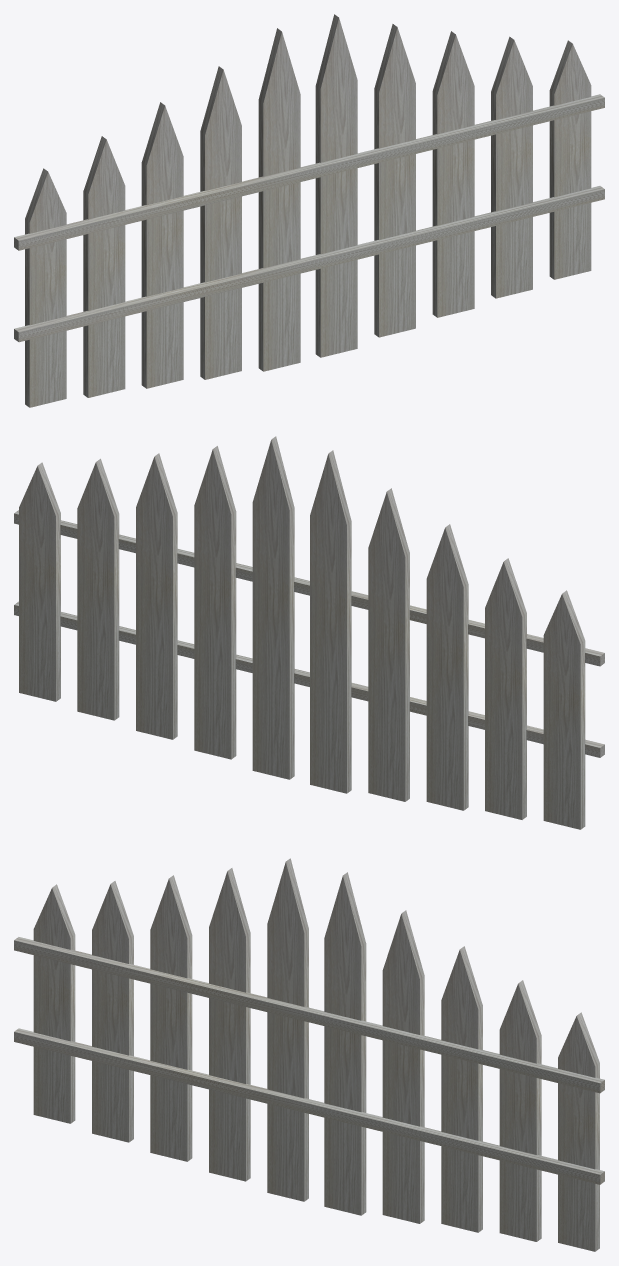
Rendered from Fence_02.FBX.
3 renders of one model, top to bottom at view 1: azimuth 30°, elevation 25°; view 2: azimuth 150°, elevation 25°; view 3: azimuth 330°, elevation 25°, orthographic.
Parts seen in each view (by area): view 1: Fence_back, Fence_005, Fence_006, Fence_004, Fence_007, Fence_003, Fence_008, Fence_002, Fence_009, Fence_010, Fence_001; view 2: Fence_006, Fence_005, Fence_007, Fence_004, Fence_003, Fence_008, Fence_009, Fence_002, Fence_001, Fence_010, Fence_back; view 3: Fence_back, Fence_006, Fence_005, Fence_007, Fence_004, Fence_003, Fence_008, Fence_009, Fence_002, Fence_001, Fence_010.
Part boxes in pixels (x1=…): Fence_back: x1=14, y1=94, x2=604, y2=342; Fence_005: x1=258, y1=28, x2=300, y2=371; Fence_006: x1=315, y1=14, x2=357, y2=357; Fence_004: x1=200, y1=66, x2=241, y2=379; Fence_007: x1=374, y1=24, x2=415, y2=337; Fence_003: x1=141, y1=102, x2=183, y2=388; Fence_008: x1=432, y1=31, x2=474, y2=317; Fence_002: x1=83, y1=136, x2=125, y2=397; Fence_009: x1=491, y1=36, x2=532, y2=298; Fence_010: x1=549, y1=40, x2=591, y2=279; Fence_001: x1=25, y1=168, x2=66, y2=407; Fence_006: x1=252, y1=436, x2=294, y2=779; Fence_005: x1=310, y1=450, x2=351, y2=793; Fence_007: x1=194, y1=446, x2=236, y2=759; Fence_004: x1=368, y1=488, x2=409, y2=801; Fence_003: x1=426, y1=524, x2=468, y2=810; Fence_008: x1=136, y1=453, x2=177, y2=739; Fence_009: x1=77, y1=458, x2=119, y2=720; Fence_002: x1=485, y1=558, x2=526, y2=819; Fence_001: x1=543, y1=590, x2=585, y2=829; Fence_010: x1=19, y1=462, x2=60, y2=701; Fence_back: x1=14, y1=510, x2=604, y2=757; Fence_back: x1=14, y1=937, x2=604, y2=1184; Fence_006: x1=324, y1=872, x2=366, y2=1215; Fence_005: x1=267, y1=858, x2=308, y2=1201; Fence_007: x1=382, y1=910, x2=424, y2=1223; Fence_004: x1=209, y1=868, x2=250, y2=1181; Fence_003: x1=150, y1=875, x2=192, y2=1161; Fence_008: x1=441, y1=946, x2=482, y2=1232; Fence_009: x1=499, y1=980, x2=541, y2=1241; Fence_002: x1=92, y1=881, x2=133, y2=1142; Fence_001: x1=33, y1=884, x2=75, y2=1123; Fence_010: x1=558, y1=1012, x2=599, y2=1251.
Bounding box in the file's own units: 30.1 × 16.47 × 0.8119.
